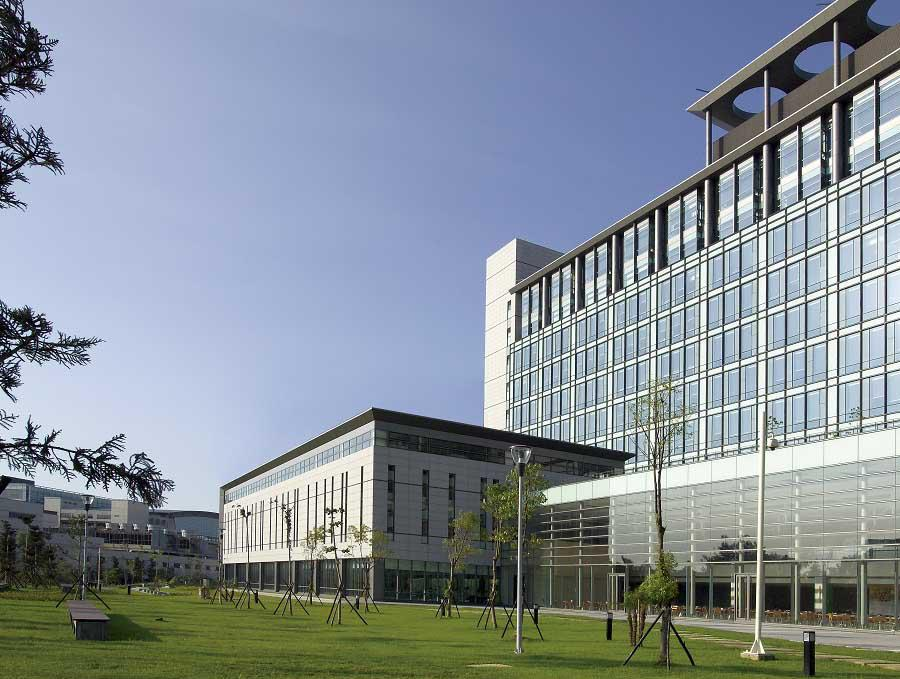affected: (213, 397, 648, 614)
